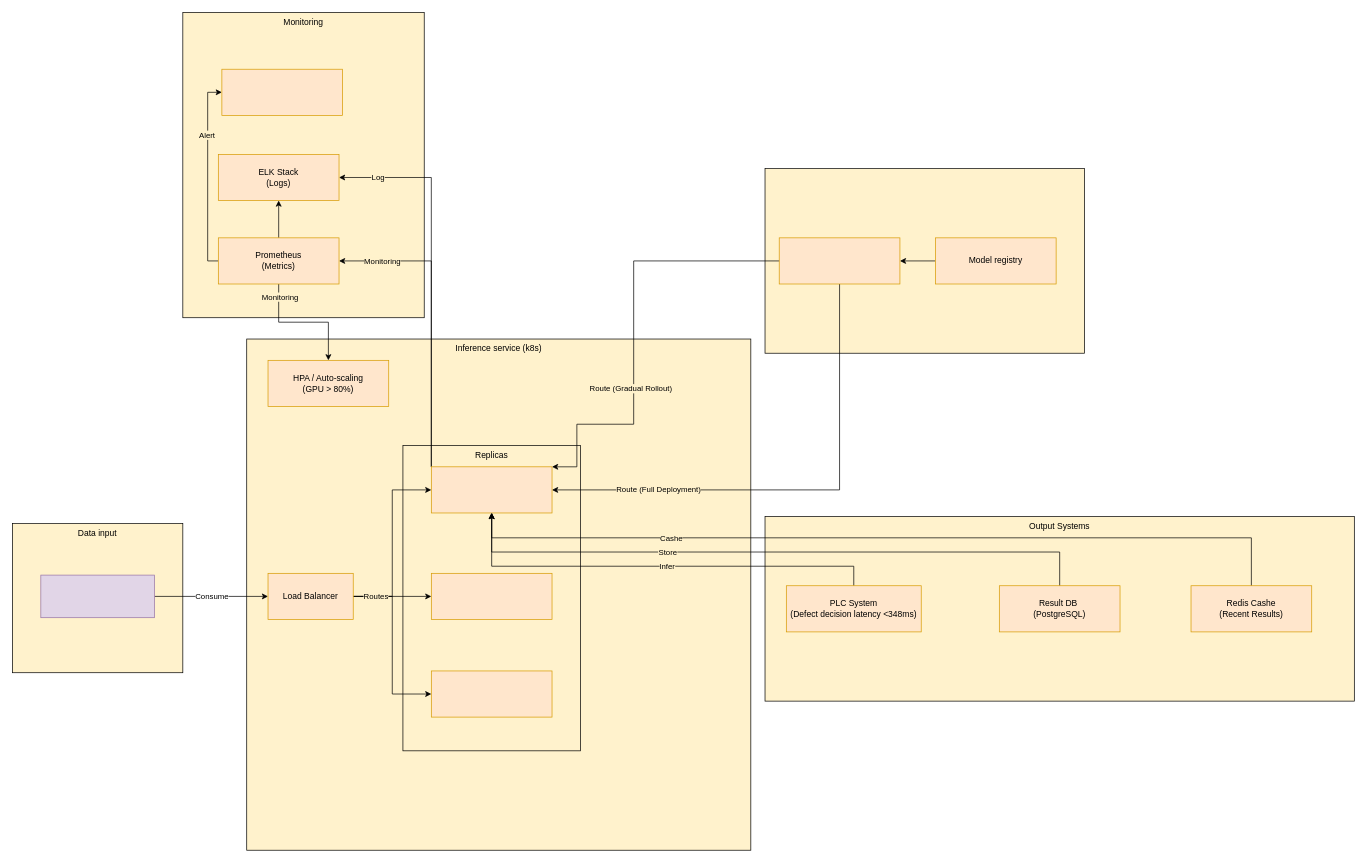
The diagram is 1367 pixels wide and 863 high, and some of its shapes have lost their labels. Here are the shapes that lost their labels. From the top down, the box of each, then its label:
(221, 69, 343, 115): Alert manager (Alerts)
(779, 237, 900, 284): Canary deployment (10% traffic)
(764, 168, 1085, 353): Model management
(431, 466, 552, 513): Pod 1 (ONNX Runtime + YOLOv8)
(40, 574, 154, 618): Kafka topic (Valid Raw Images 60 RPS)
(431, 573, 552, 619): Pod 2 (ONNX Runtime + YOLOv8)
(431, 670, 552, 717): Pod 3 (ONNX Runtime + YOLOv8)
